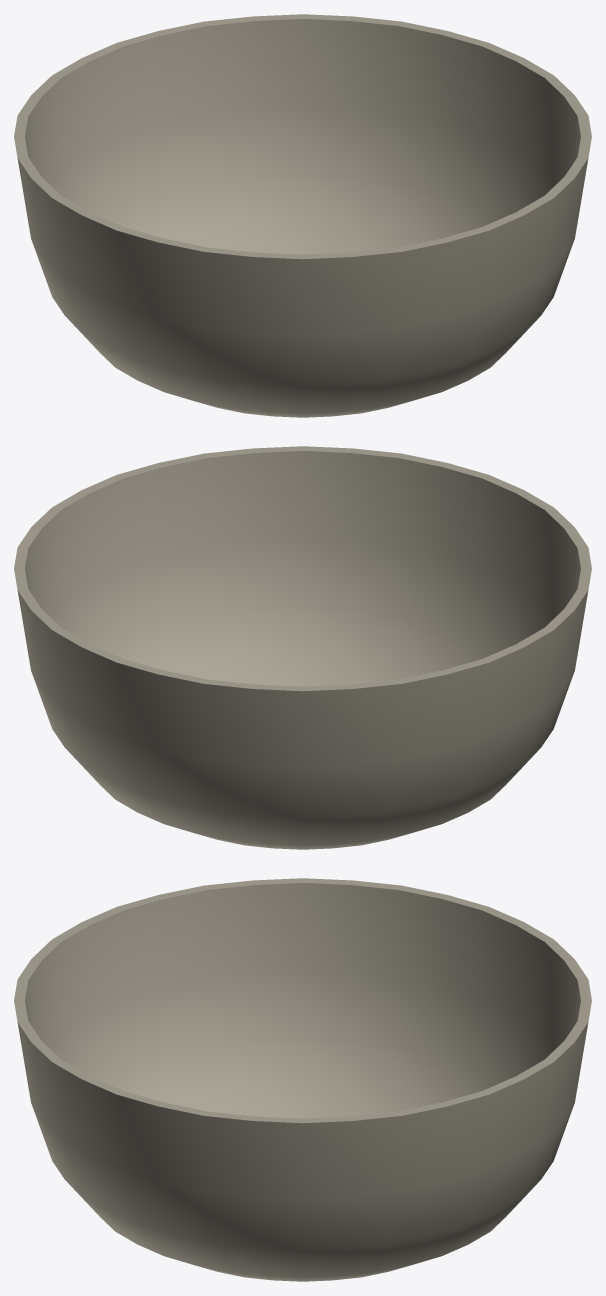
The model's file is Plate03.FBX.
The picture shows the model from 3 angles, top to bottom: view 1: azimuth 30°, elevation 25°; view 2: azimuth 150°, elevation 25°; view 3: azimuth 270°, elevation 25°; orthographic projection.
Parts seen in each view (by area): view 1: Plate03_LOD0; view 2: Plate03_LOD0; view 3: Plate03_LOD0.
Part boxes in pixels (x1,y1,x2,y2): Plate03_LOD0: (14, 14, 591, 417); Plate03_LOD0: (14, 446, 591, 849); Plate03_LOD0: (14, 878, 591, 1281).
Size of the model in its own units: 10.74 by 10.71 by 4.68.
